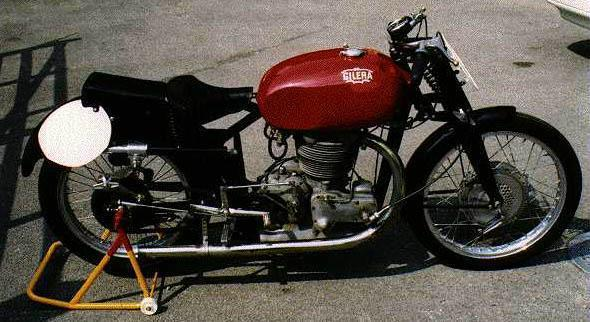motorcycle: (21, 4, 588, 283)
